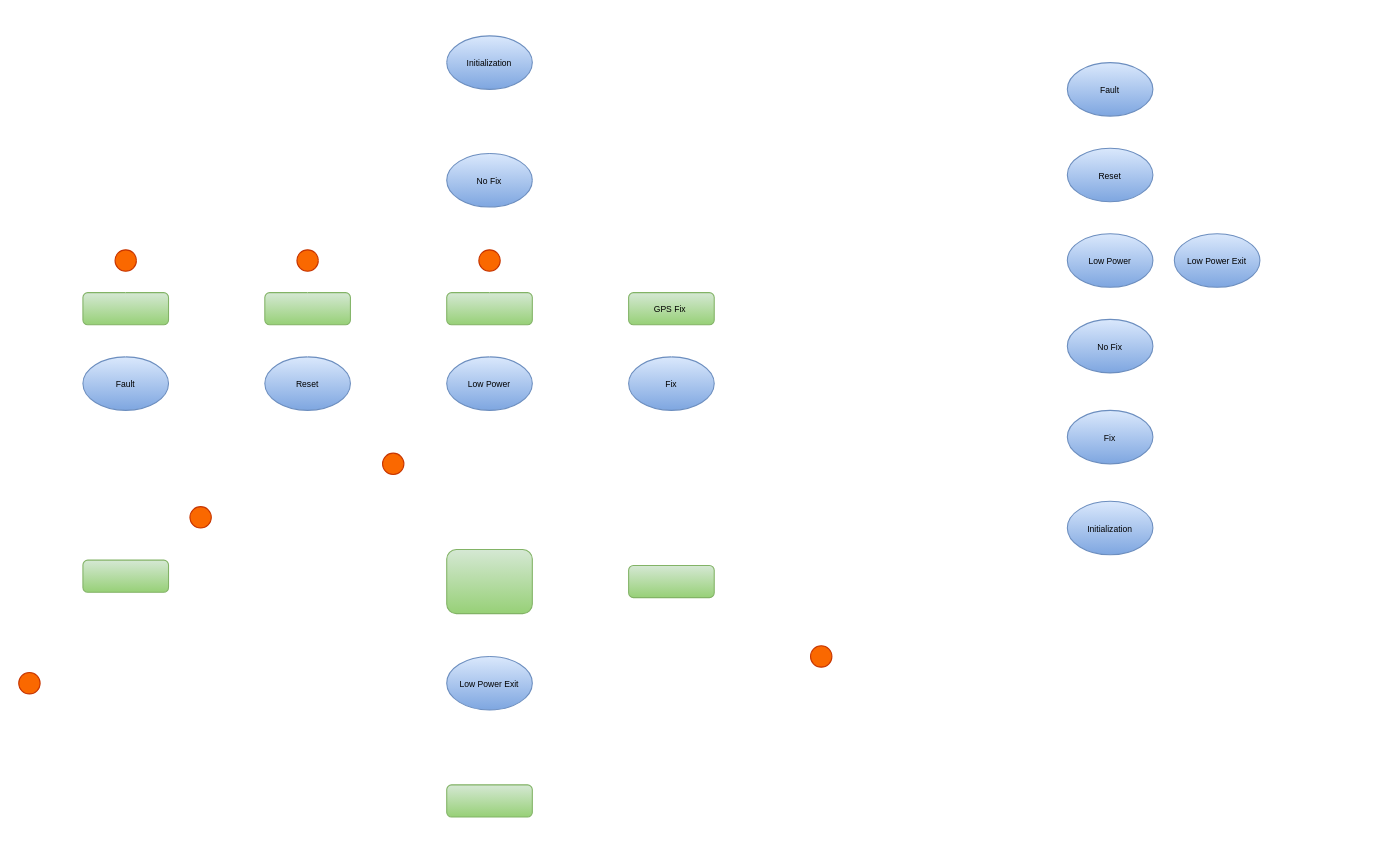
The diagram is 1375 pixels wide and 866 high, and some of its shapes have lost their labels. The shapes that lost their labels are listed below. From the top down, each one's box as (x1, y1, x2, y2) in pixels, then its label:
(82, 292, 169, 325): Fault Code != 0
(264, 292, 350, 325): Reset Flag Set
(446, 292, 532, 325): Low Power Flag Set
(82, 559, 169, 592): Fault Code Cleared
(446, 548, 532, 614): Fault Code != 0 or Reset Flag Set or Low Power Flag Cleared
(628, 564, 714, 598): No GPS Fix
(446, 784, 532, 817): No other flags set
